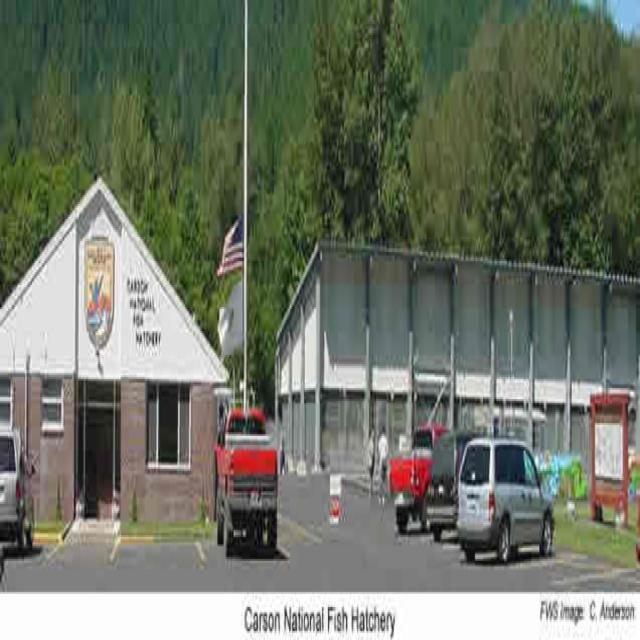car: (208, 388, 284, 568), (454, 432, 554, 563)
